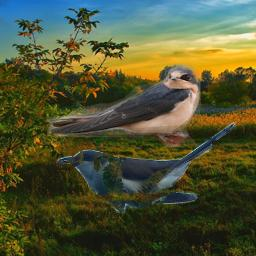Cuckoo: (56, 121, 241, 213)
Swallow: (47, 63, 201, 147)
